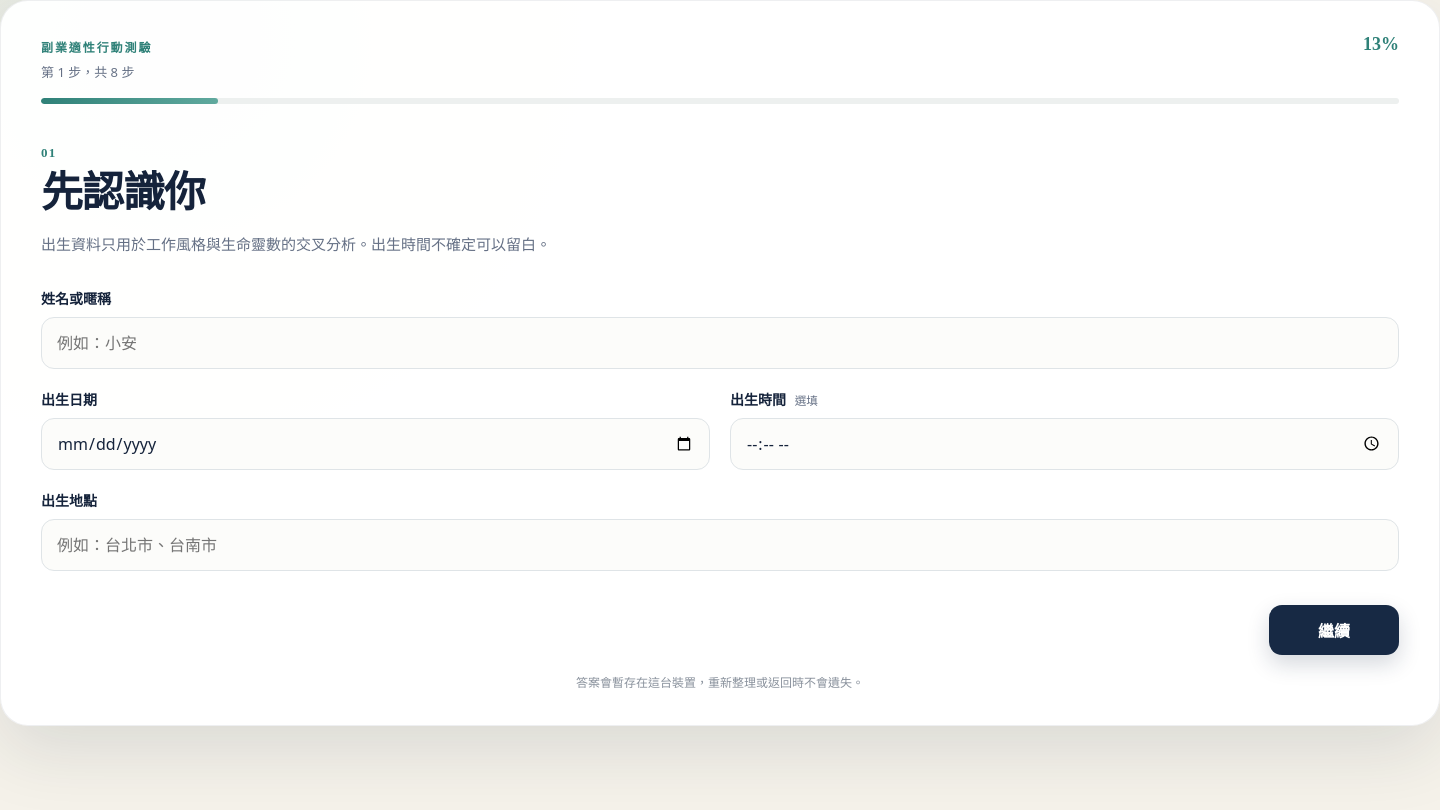
Test: AssessmentForm › validates required profile fields before moving forward
The width and height of the screenshot is (1440, 810).
Check: the heading "先認識你" is shown, box [41,170,205,216]
Click the button "繼續". click: (1334,630)
box: [1269,604,1399,654]
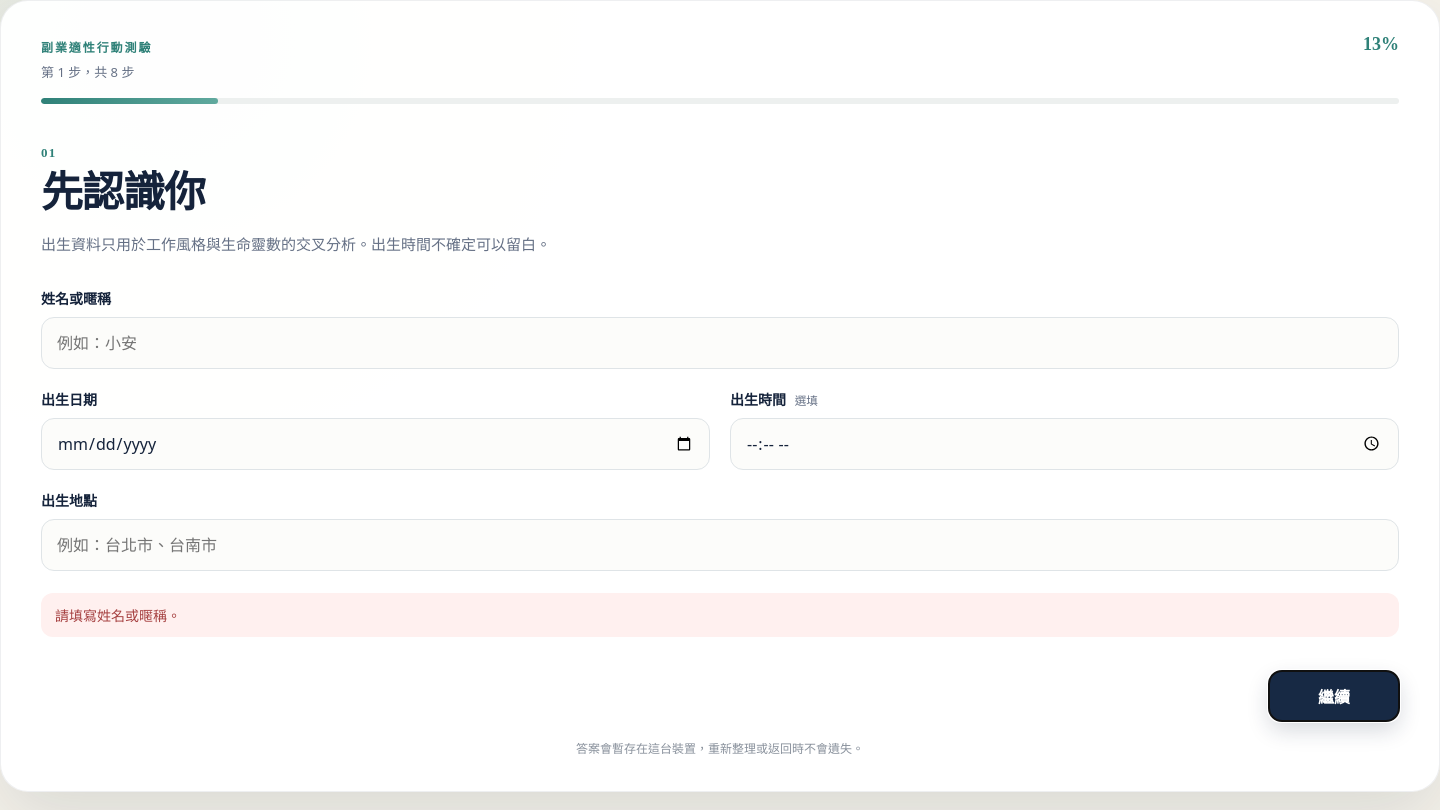
Check: the message shows "請填寫姓名或暱稱", box [55,606,181,624]
